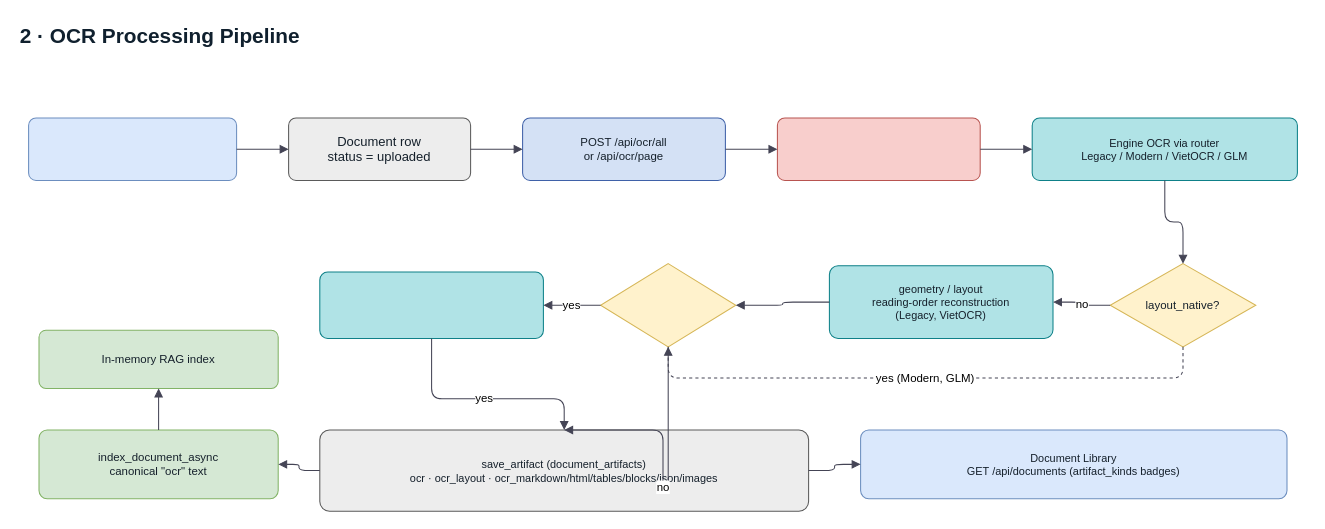
Some shapes in this 1325 by 529 pixel diagram are drawn without their labels. The shapes that lost their labels are listed below. From the top down, each one's centre as x and y in pixels, then its label:
the point at 132,148: POST /api/upload UUID filename · ext allowlist
the point at 878,148: _resolve_owned_file ownership / IDOR guard
the point at 431,305: Qwen line cleanup (smart mode · safety-gated · text only)
the point at 668,305: apply_ai?
